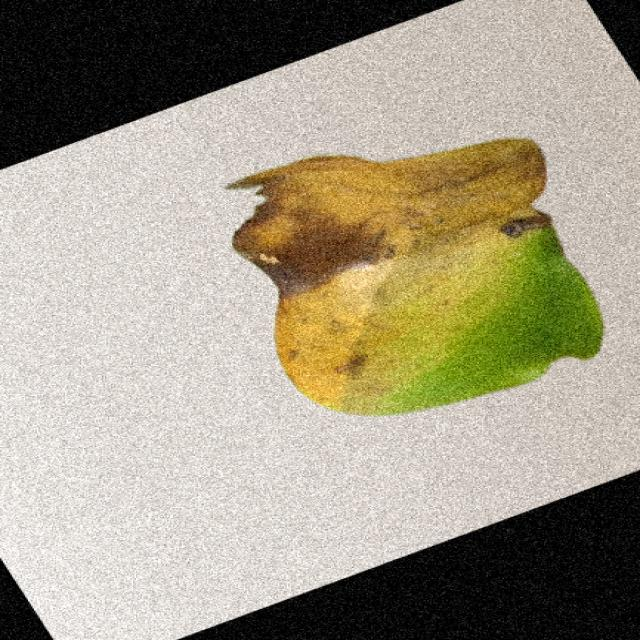daun berpenyakit kuning: (228, 140, 603, 414)
